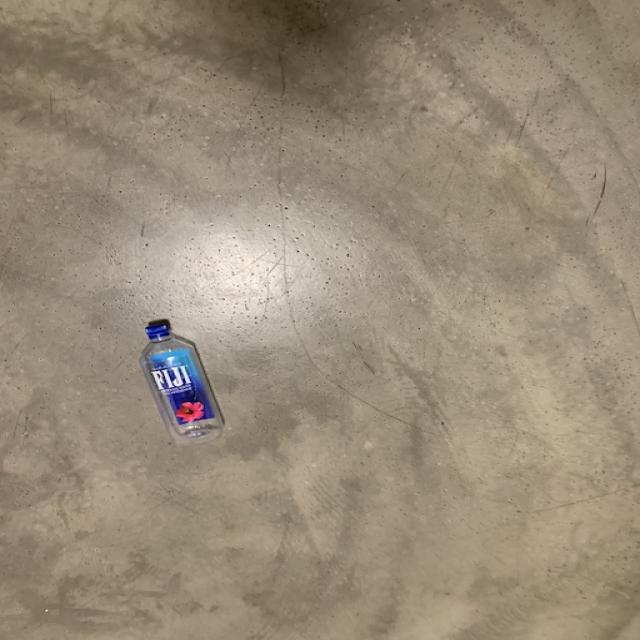Waste: (140, 320, 224, 446)
